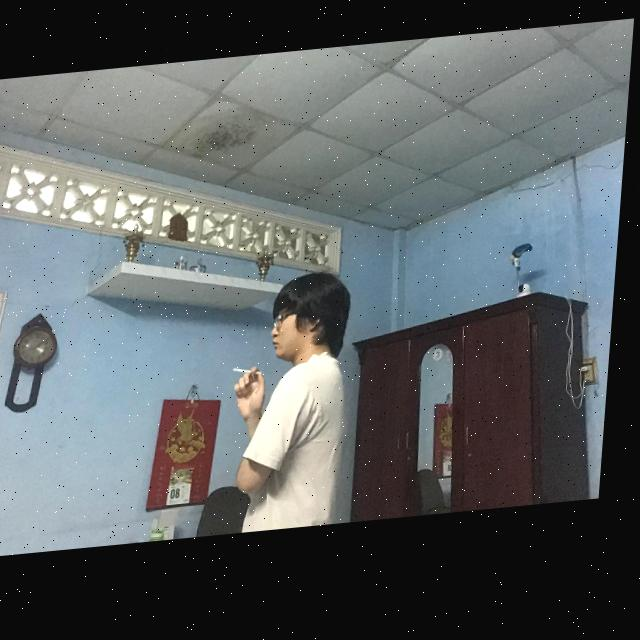cigarette: (238, 372, 258, 381)
